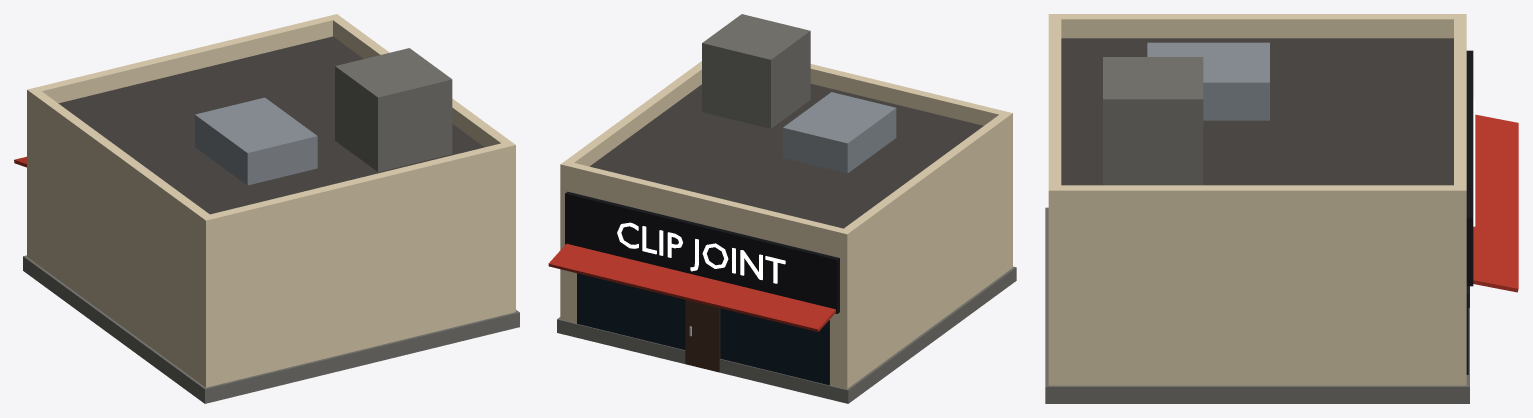
File: bld_barber.glb
3 renders of one model, left to right at view 1: azimuth 30°, elevation 25°; view 2: azimuth 150°, elevation 25°; view 3: azimuth 270°, elevation 25°, orthographic. The views are drawn at different scales.
Parts seen in each view (by area): view 1: bld_barber__mesh; view 2: bld_barber__mesh, bld_barber__signboard, bld_barber__sign; view 3: bld_barber__mesh, bld_barber__signboard.
Boxes of the visible parts, left/top/right/bottom form: bld_barber__mesh: left=14, top=14, right=519, bottom=403; bld_barber__mesh: left=548, top=14, right=1016, bottom=403; bld_barber__signboard: left=565, top=191, right=839, bottom=313; bld_barber__sign: left=617, top=222, right=785, bottom=283; bld_barber__mesh: left=1045, top=14, right=1518, bottom=403; bld_barber__signboard: left=1466, top=50, right=1473, bottom=286.
Bounding box in the file's own units: 10.16 × 7.4 × 11.33.
